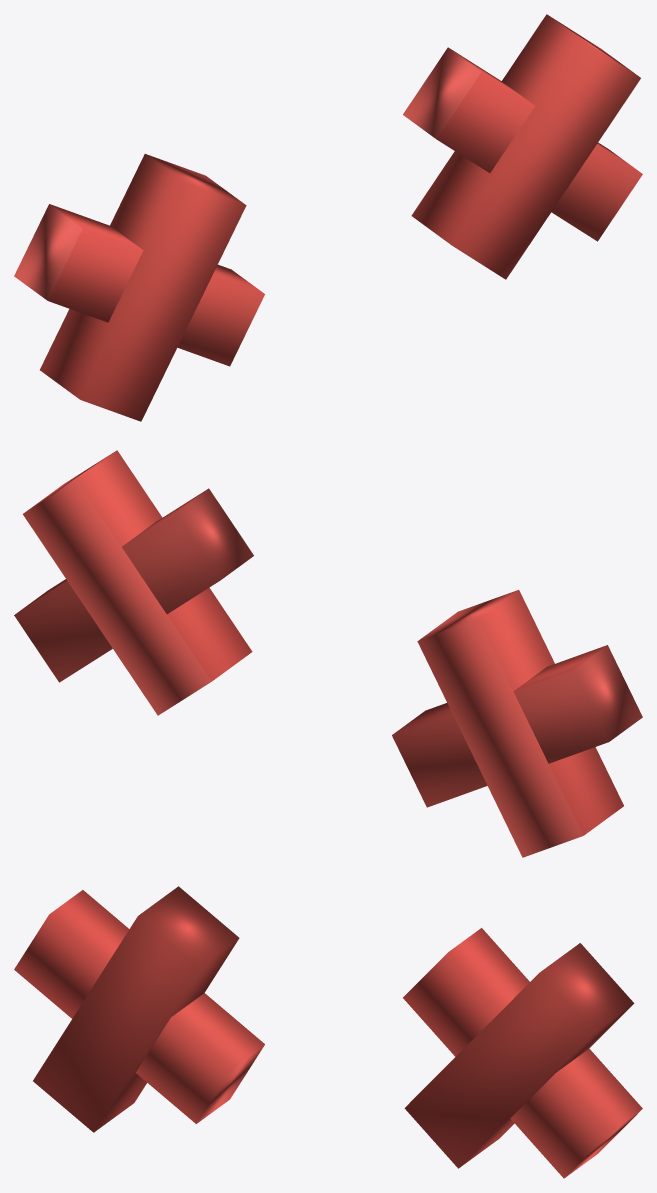
File: eyes_dead.fbx
The picture shows the model from 3 angles, top to bottom: view 1: azimuth 30°, elevation 25°; view 2: azimuth 150°, elevation 25°; view 3: azimuth 330°, elevation 25°; orthographic projection.
Visible parts, largest first — view 1: eyes_dead; view 2: eyes_dead; view 3: eyes_dead.
Part boxes in pixels (x1=…): eyes_dead: x1=14, y1=14, x2=642, y2=421; eyes_dead: x1=14, y1=450, x2=642, y2=857; eyes_dead: x1=14, y1=886, x2=642, y2=1178.
Bounding box in the file's own units: 27.42 × 11.85 × 3.24.
Materials: 1 (1 with a texture image).
